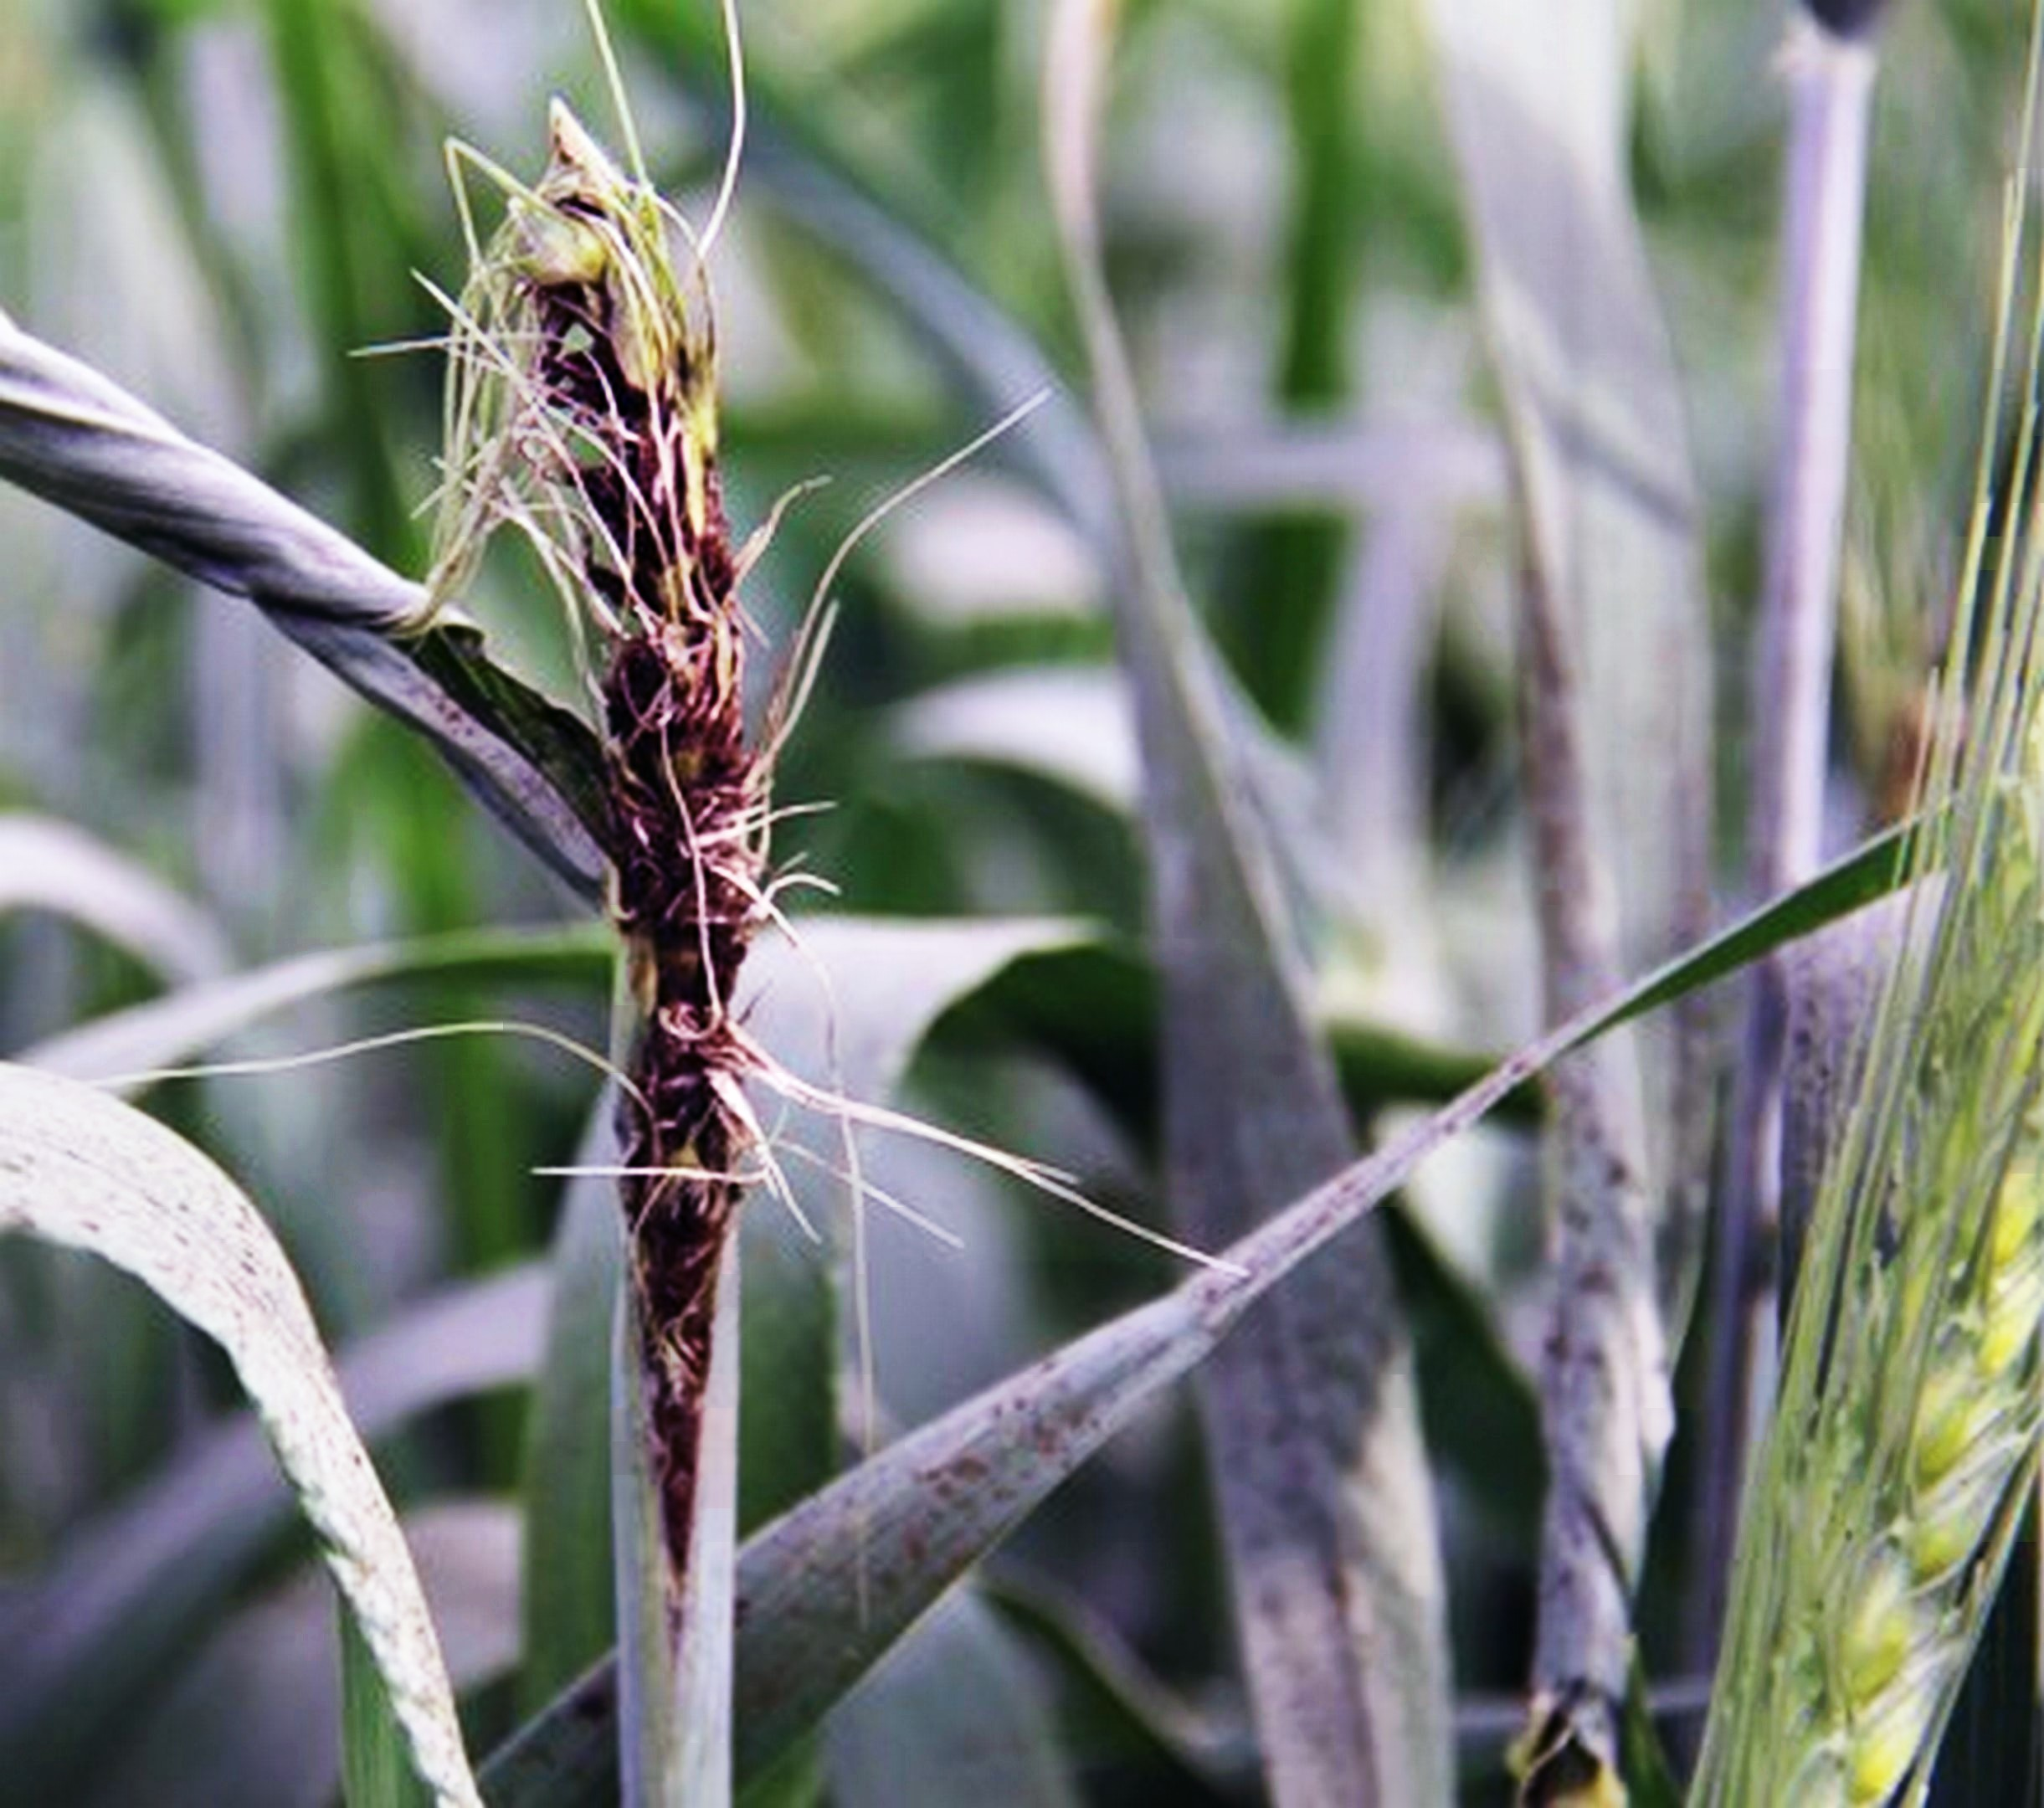Wheat Loose Smut: (473, 241, 836, 1332)
